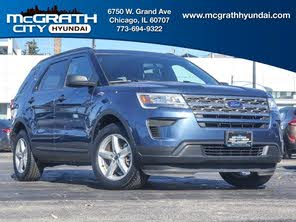Ford Explorer: (8, 46, 284, 196)
